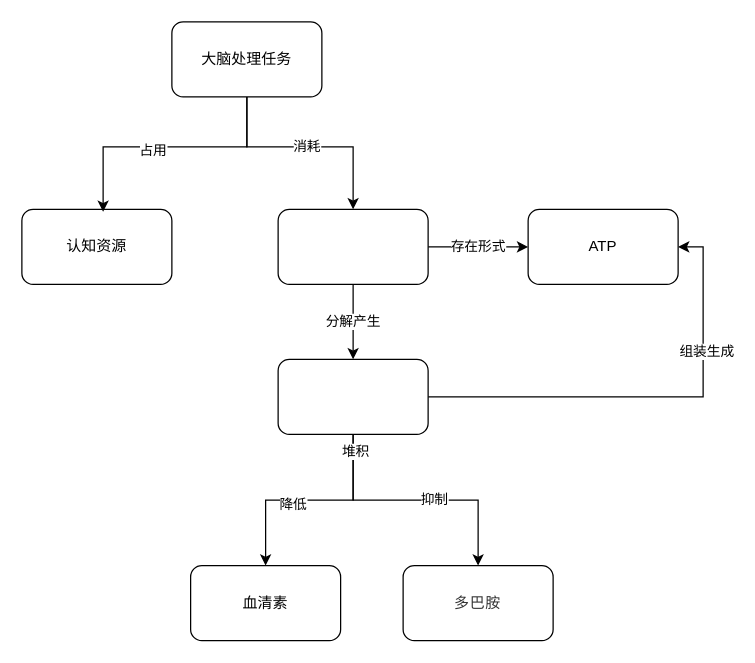
This 755x663 diagram has some shape labels left out. Each missing label, with the centre of its shape:
"能量" belongs at [352,246].
"腺苷" belongs at [352,396].
